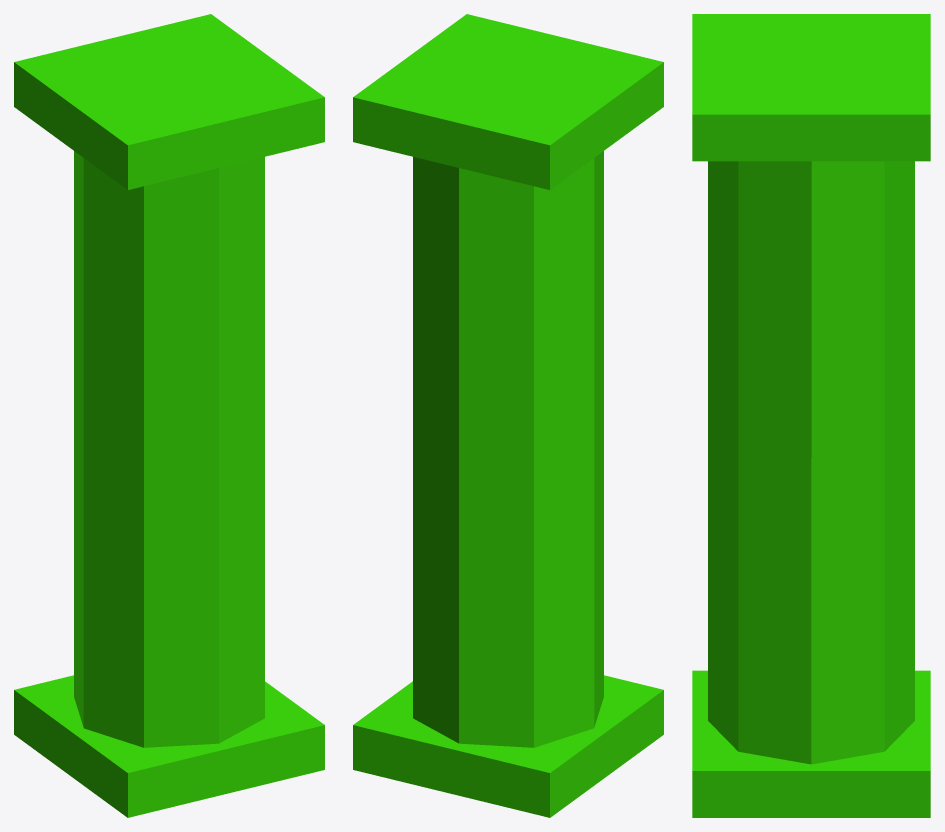
The model's file is column3.fbx.
3 renders of one model, left to right at view 1: azimuth 30°, elevation 25°; view 2: azimuth 150°, elevation 25°; view 3: azimuth 270°, elevation 25°, orthographic. The views are drawn at different scales.
Parts seen in each view (by area): view 1: column3; view 2: column3; view 3: column3.
Boxes of the visible parts, bbox=[...] form: column3: bbox=[14, 14, 324, 817]; column3: bbox=[353, 14, 663, 817]; column3: bbox=[692, 14, 930, 817].
Size of the model in its own units: 92 by 300 by 92.
